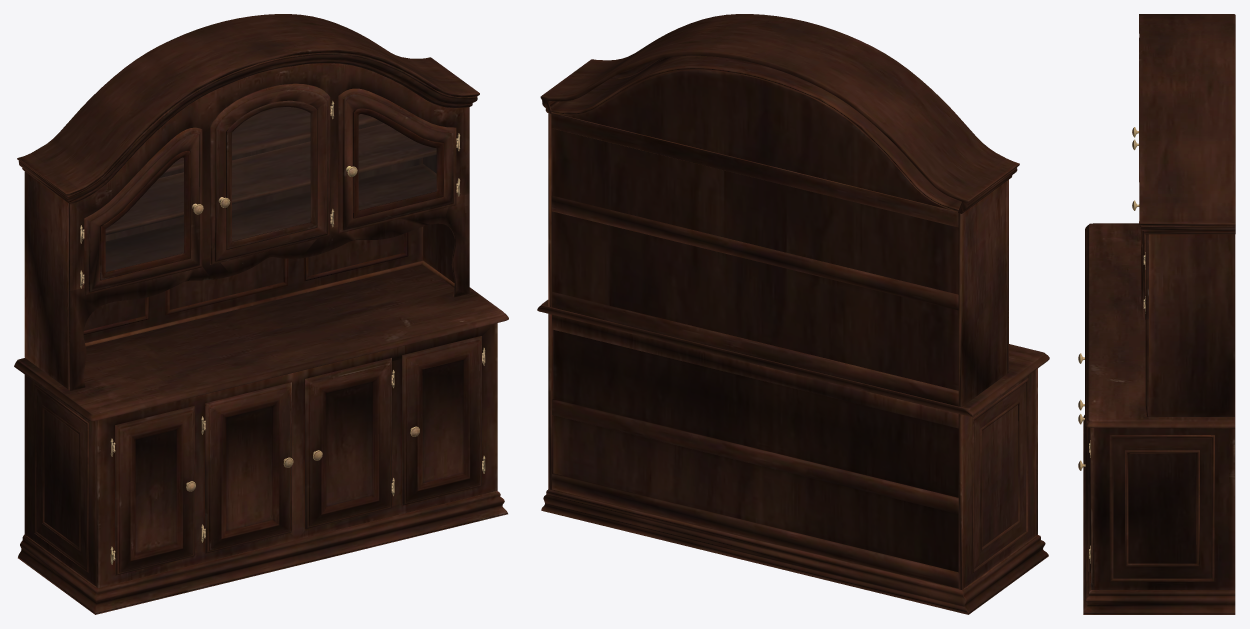
Rendered from vintage_cabinet_01.glb.
The picture shows the model from 3 angles, left to right: view 1: azimuth 30°, elevation 25°; view 2: azimuth 150°, elevation 25°; view 3: azimuth 270°, elevation 25°; orthographic projection. The views are drawn at different scales.
Visible parts, largest first — view 1: vintage_cabinet_01_body, vintage_cabinet_01_door_03, vintage_cabinet_01_door_01, vintage_cabinet_01_door_04, vintage_cabinet_01_door_06, vintage_cabinet_01_door_07, vintage_cabinet_01_door_05, vintage_cabinet_01_door_02; view 2: vintage_cabinet_01_body; view 3: vintage_cabinet_01_body, vintage_cabinet_01_door_02, vintage_cabinet_01_door_04.
Boxes of the visible parts, box(x1,y1,x2,y2) form: vintage_cabinet_01_body: box(14, 14, 508, 614); vintage_cabinet_01_door_03: box(210, 83, 332, 264); vintage_cabinet_01_door_01: box(82, 127, 203, 295); vintage_cabinet_01_door_04: box(338, 88, 458, 233); vintage_cabinet_01_door_06: box(204, 382, 293, 553); vintage_cabinet_01_door_07: box(305, 357, 392, 529); vintage_cabinet_01_door_05: box(113, 406, 195, 575); vintage_cabinet_01_door_02: box(402, 336, 483, 505); vintage_cabinet_01_body: box(537, 14, 1049, 614); vintage_cabinet_01_body: box(1083, 14, 1235, 614); vintage_cabinet_01_door_02: box(1078, 427, 1090, 573); vintage_cabinet_01_door_04: box(1132, 200, 1145, 319).
Bounding box in the file's own units: 2.02 × 2.24 × 0.6698.
Materials: 3 (2 with a texture image).
